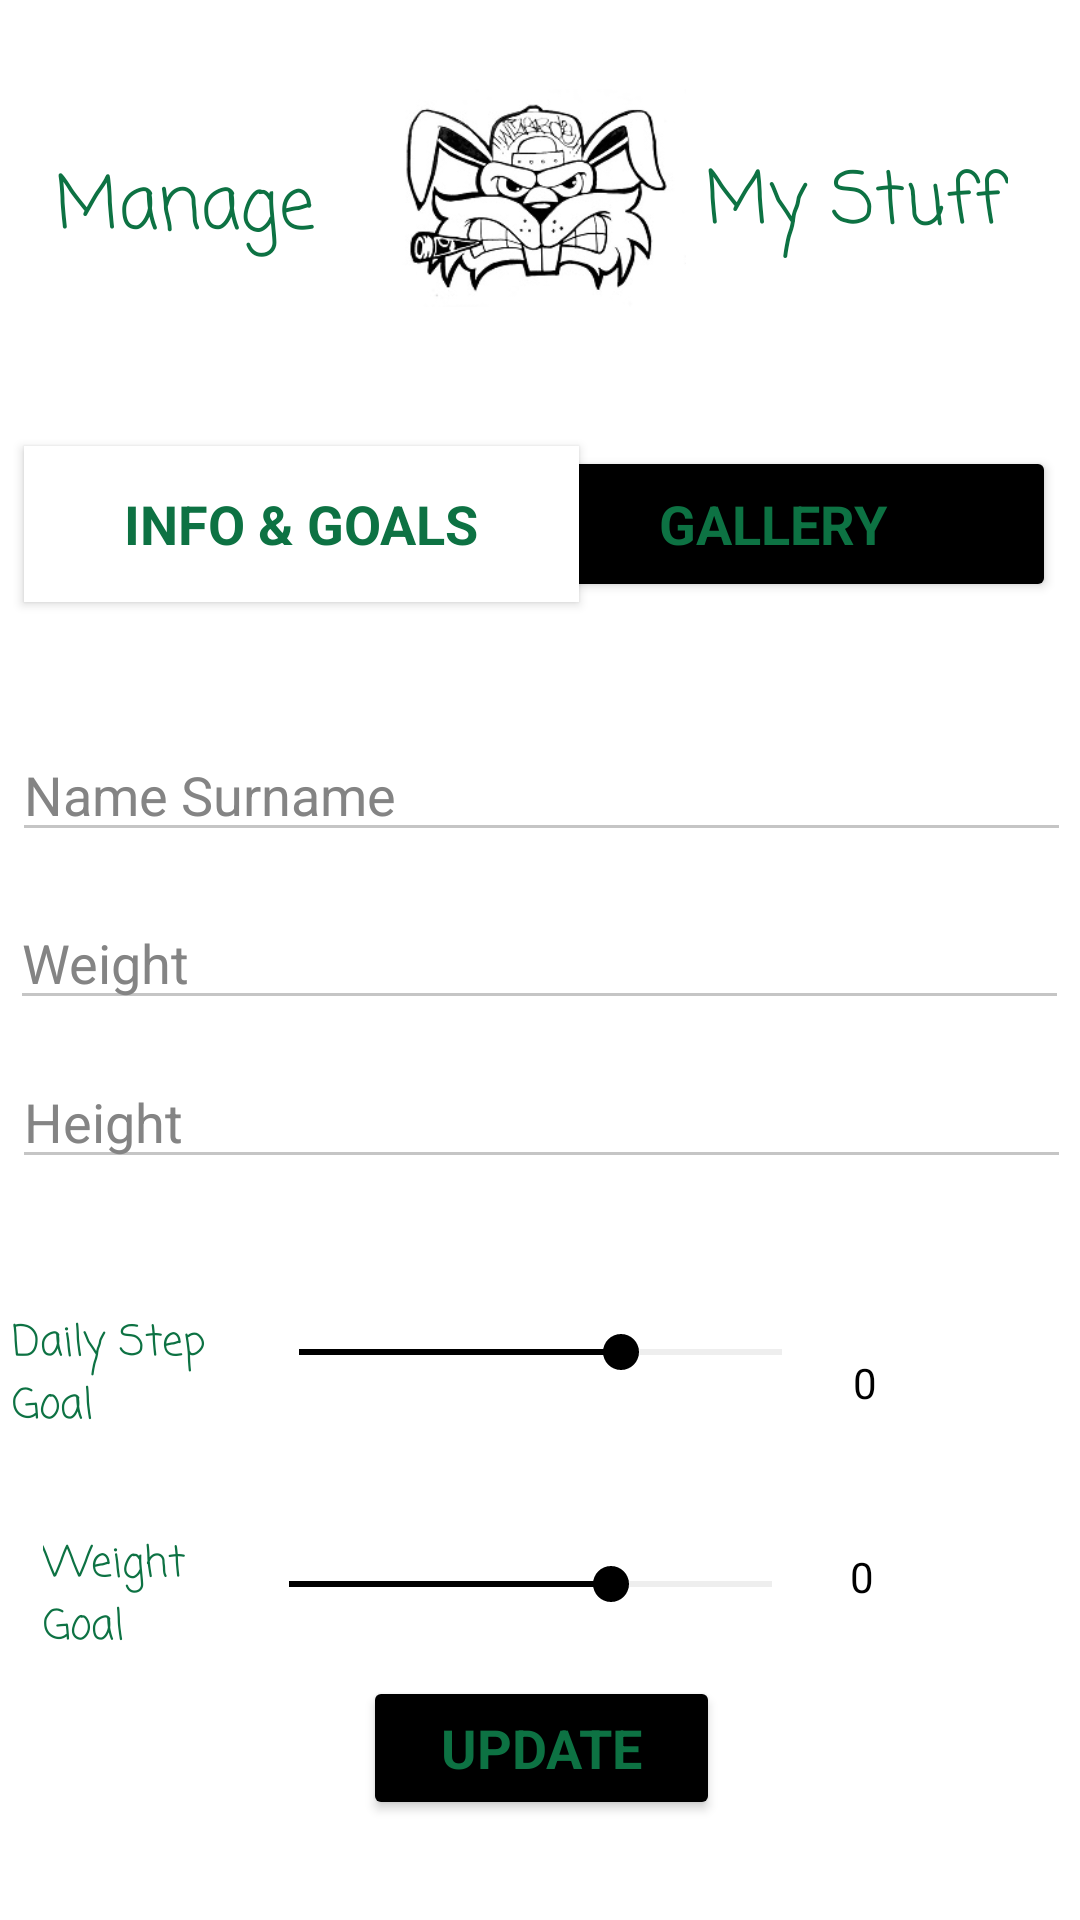

Locate icon controls on the screen. Image size 1080 × 1920, boxes as (x1, y1, x2, y2).
rabbitimg: (406, 104, 667, 296)
